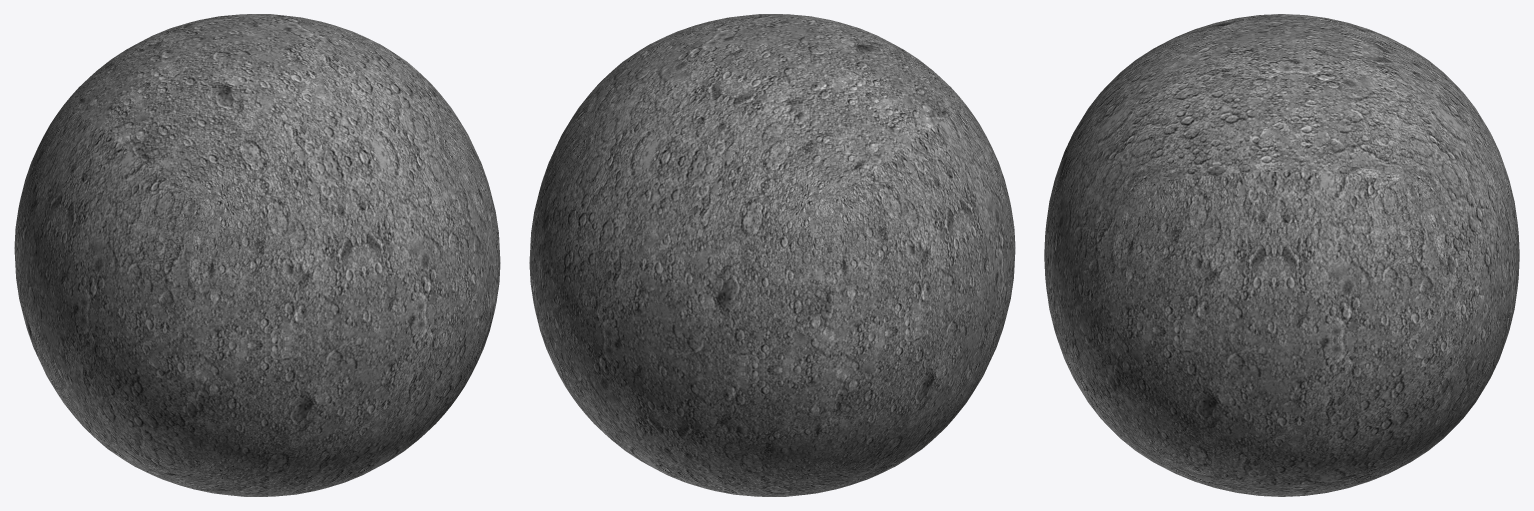
The model's file is moon.fbx.
3 views of the same model, side by side, from view 1: azimuth 30°, elevation 25°; view 2: azimuth 150°, elevation 25°; view 3: azimuth 270°, elevation 25° (orthographic).
Parts seen in each view (by area): view 1: moon; view 2: moon; view 3: moon.
Part boxes in pixels (x1,y1,x2,y2): moon: [14, 14, 500, 496]; moon: [529, 14, 1015, 496]; moon: [1044, 14, 1519, 496].
Size of the model in its own units: 19.67 by 19.67 by 19.67.
